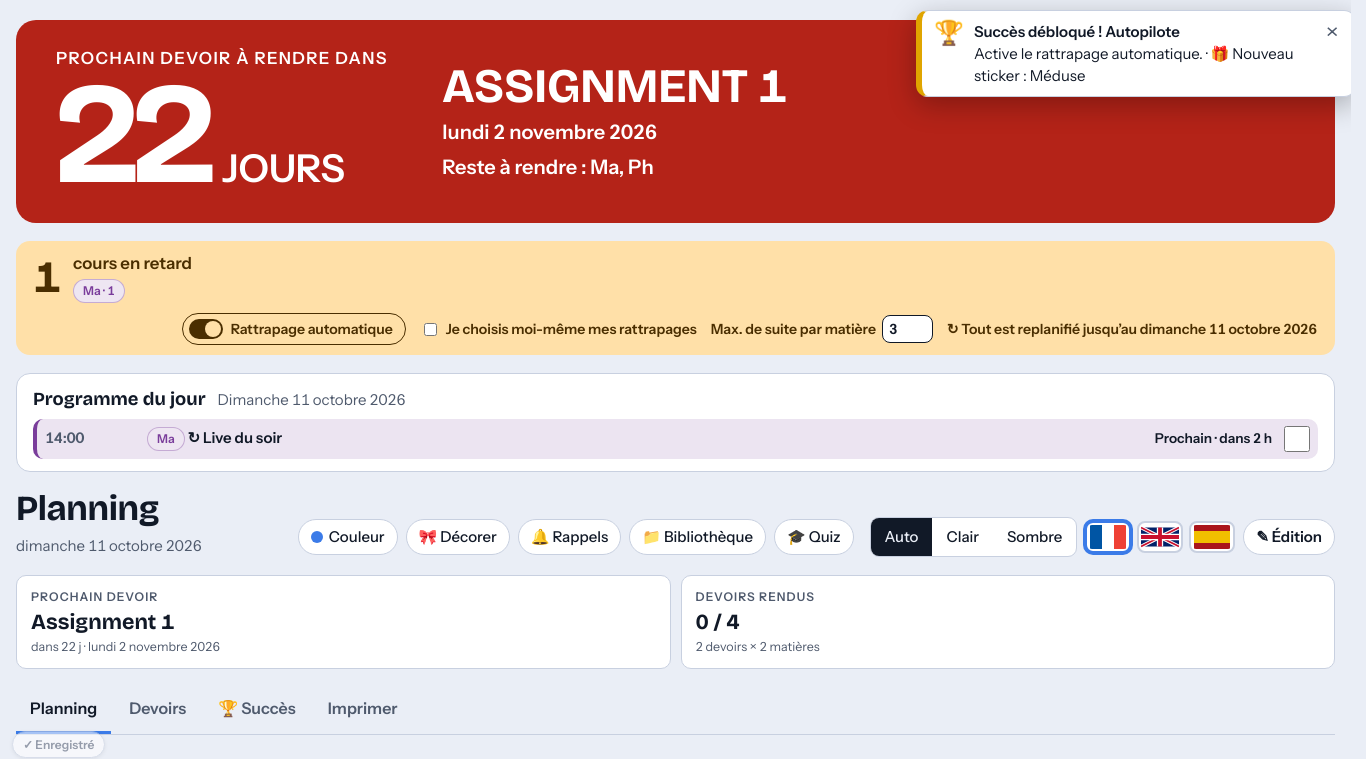
manual catch-up planning › is a checkbox under the automatic switch: automatic by default, manual when ticked (nothing is placed by itself)
The image size is (1366, 759).
Click the checkbox labelled "Je choisis moi-même mes rattrapages": [430, 329] box [424, 323, 437, 336]
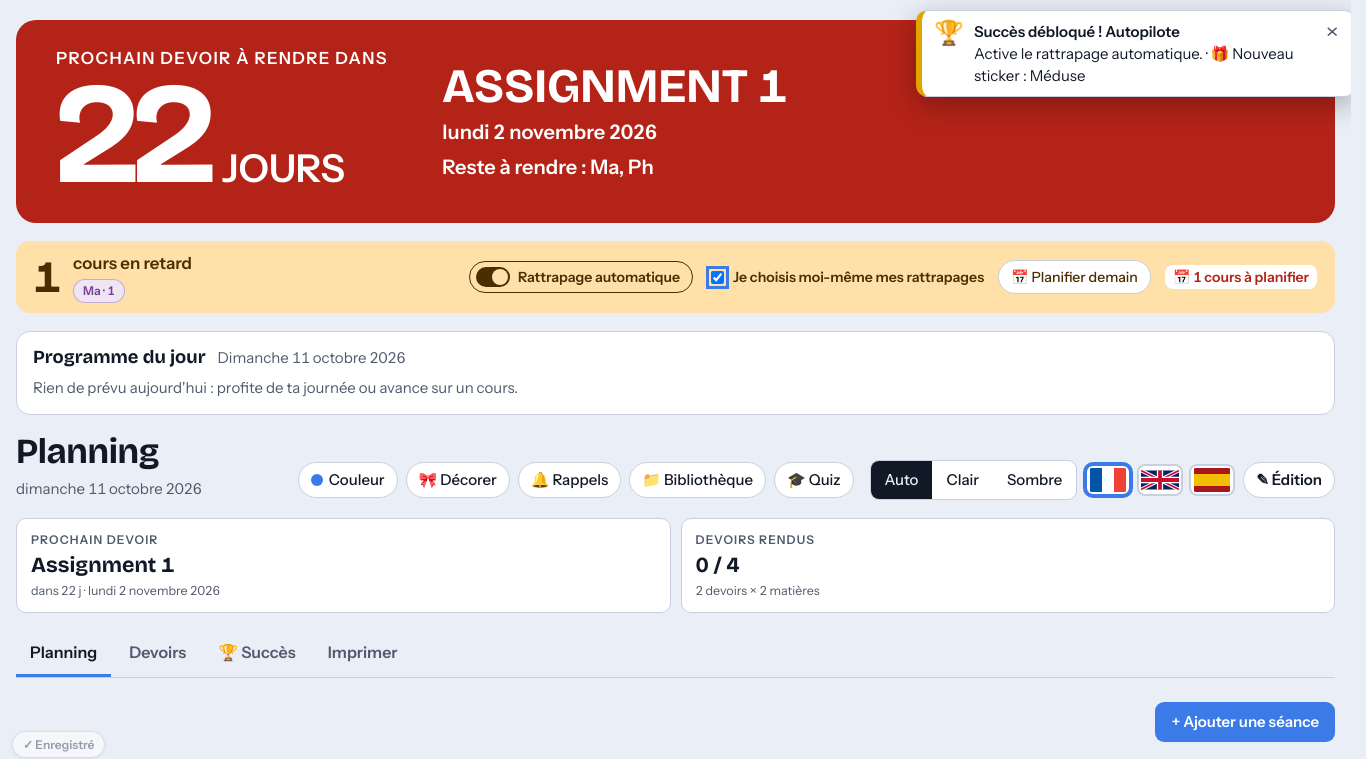
Expected: the text "📅 1 cours à planifier" is shown, [1165, 265, 1317, 289]
Expected: the button "📅 Planifier demain" is shown, [998, 260, 1151, 294]
Expected: the label labelled "Max. de suite par matière" is gone
